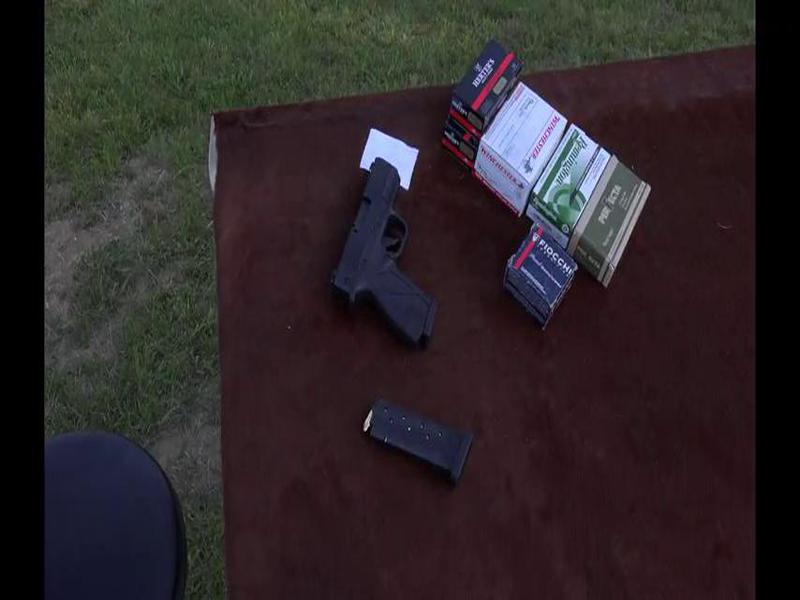Pistola: (331, 141, 452, 356)
